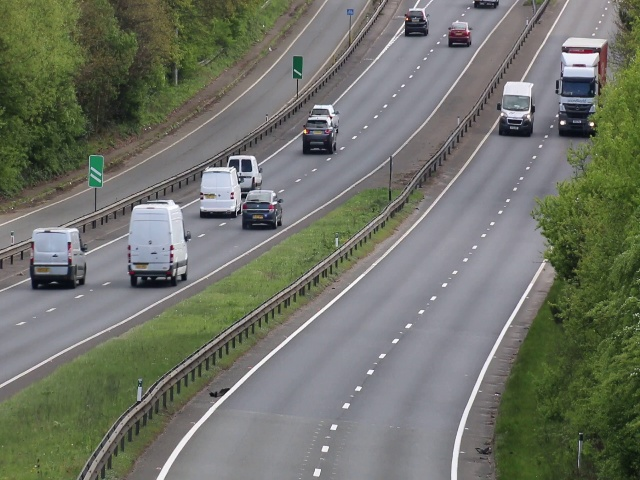car: (127, 202, 191, 284), (558, 35, 609, 137), (31, 228, 86, 289), (499, 79, 536, 138), (199, 167, 241, 217), (242, 191, 282, 229), (303, 116, 337, 155), (230, 155, 261, 190), (404, 7, 429, 37), (447, 20, 472, 46)
